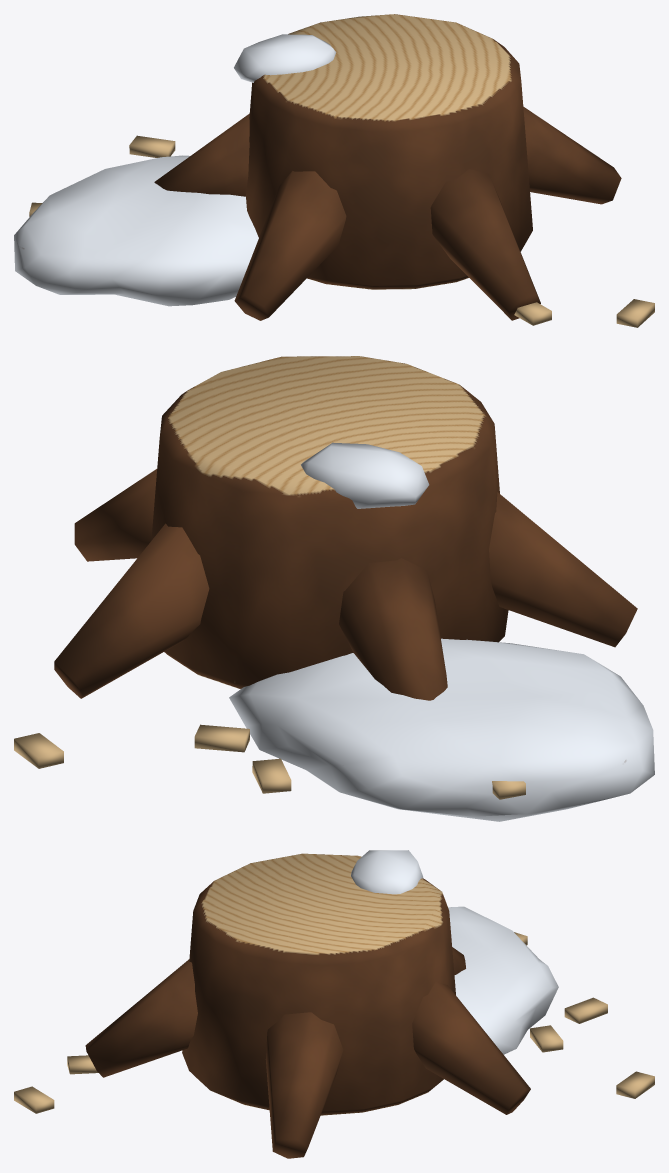
File: tree_stump.glb
3 renders of one model, top to bottom at view 1: azimuth 30°, elevation 25°; view 2: azimuth 150°, elevation 25°; view 3: azimuth 270°, elevation 25°, orthographic. The views are drawn at different scales.
Parts seen in each view (by area): view 1: basesnow; view 2: basesnow; view 3: basesnow.
Boxes of the visible parts, x1,y1,x2,y2 form: basesnow: (14,14,654,327); basesnow: (14,356,654,821); basesnow: (14,850,654,1158).
Size of the model in its own units: 1.38 by 0.5669 by 1.55.
1 material, 1 textured.
